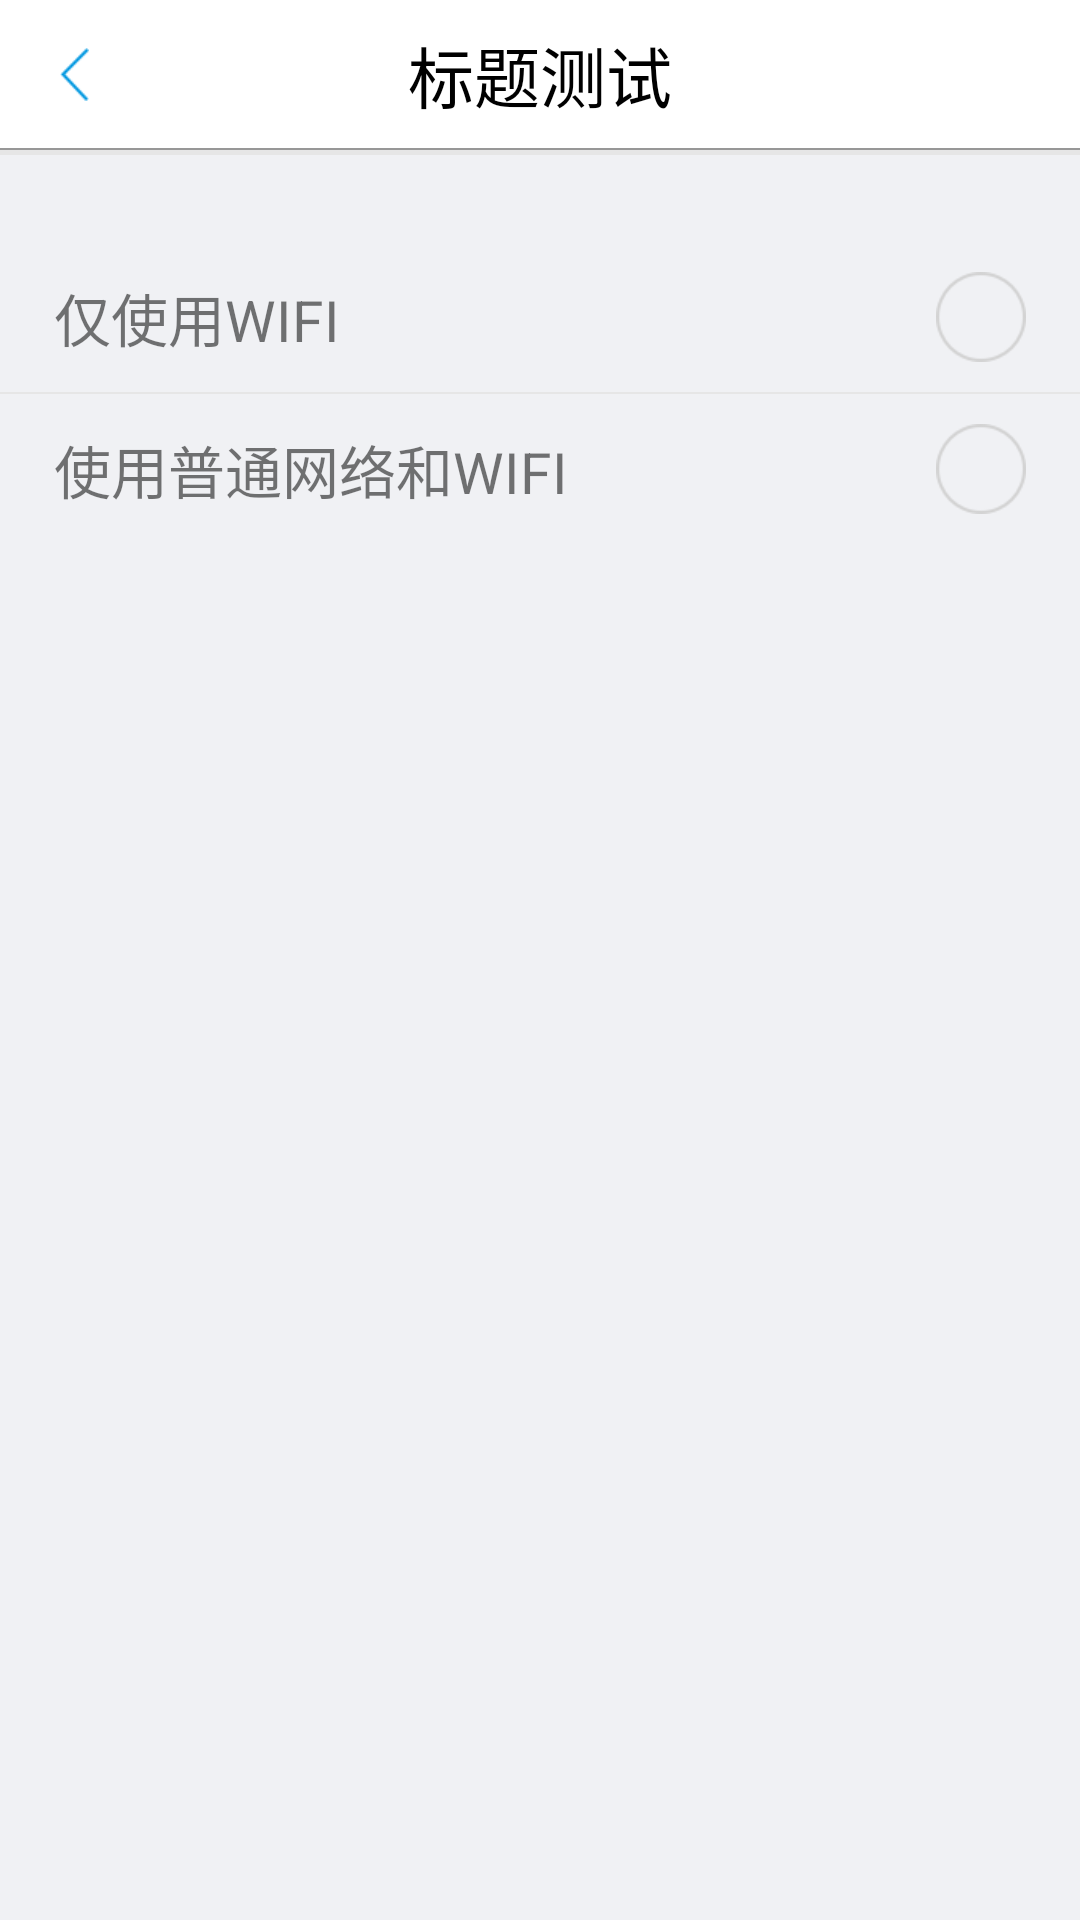

Icon click points for this 1080px×1920px phone screenshot, format point (x, y):
back: point (74, 74)
